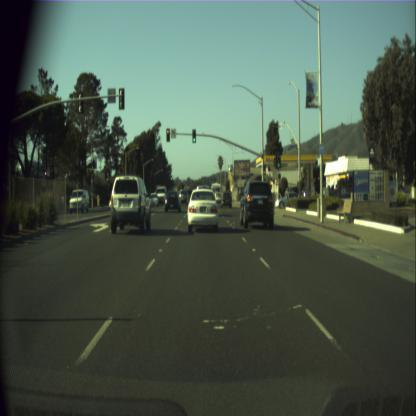Green: (192, 128, 196, 142), (276, 156, 280, 168), (263, 164, 265, 174)
Red: (166, 128, 170, 142)
RedLeft: (50, 166, 54, 178)
